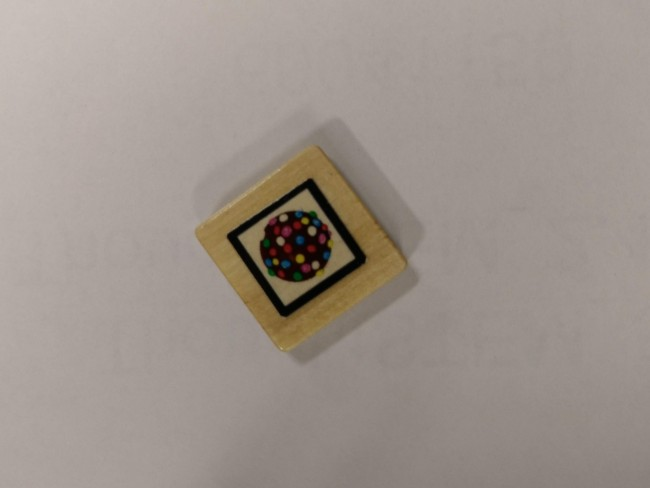cookie: (222, 179, 373, 313)
